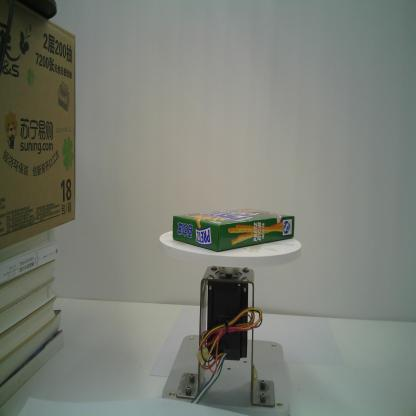Dessert: (172, 208, 294, 252)
